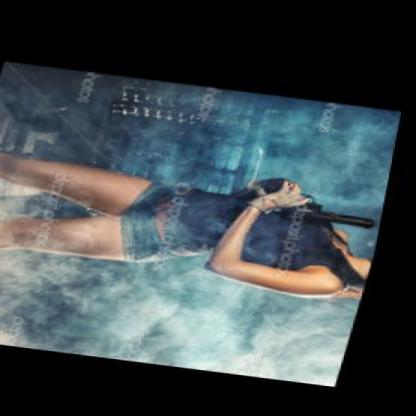pistol: (237, 160, 392, 230)
